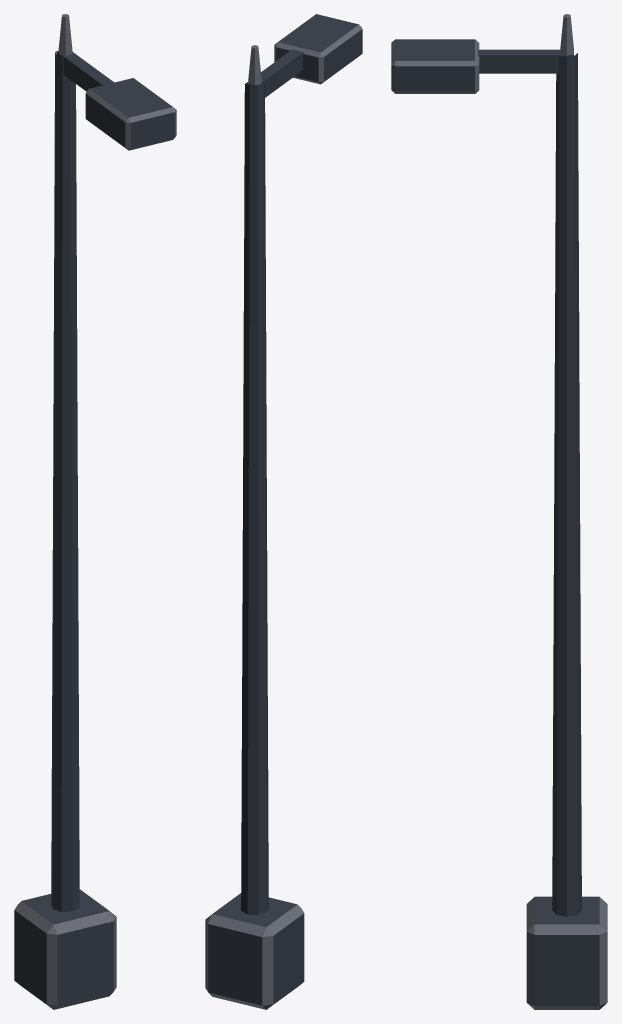
The model's file is lamp.glb.
3 views of the same model, side by side, from view 1: azimuth 30°, elevation 25°; view 2: azimuth 150°, elevation 25°; view 3: azimuth 270°, elevation 25° (orthographic). The views are drawn at different scales.
Parts seen in each view (by area): view 1: lamp; view 2: lamp; view 3: lamp.
Part boxes in pixels (x1,y1,x2,y2): lamp: [14, 14, 176, 1009]; lamp: [205, 14, 362, 1009]; lamp: [391, 14, 607, 1009].
Bounding box in the file's own units: 0.6 × 8 × 1.6.
Materials: 1 (1 with a texture image).
